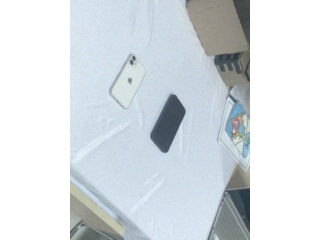box: (187, 1, 249, 55)
phone: (108, 53, 147, 110), (149, 94, 186, 153)
